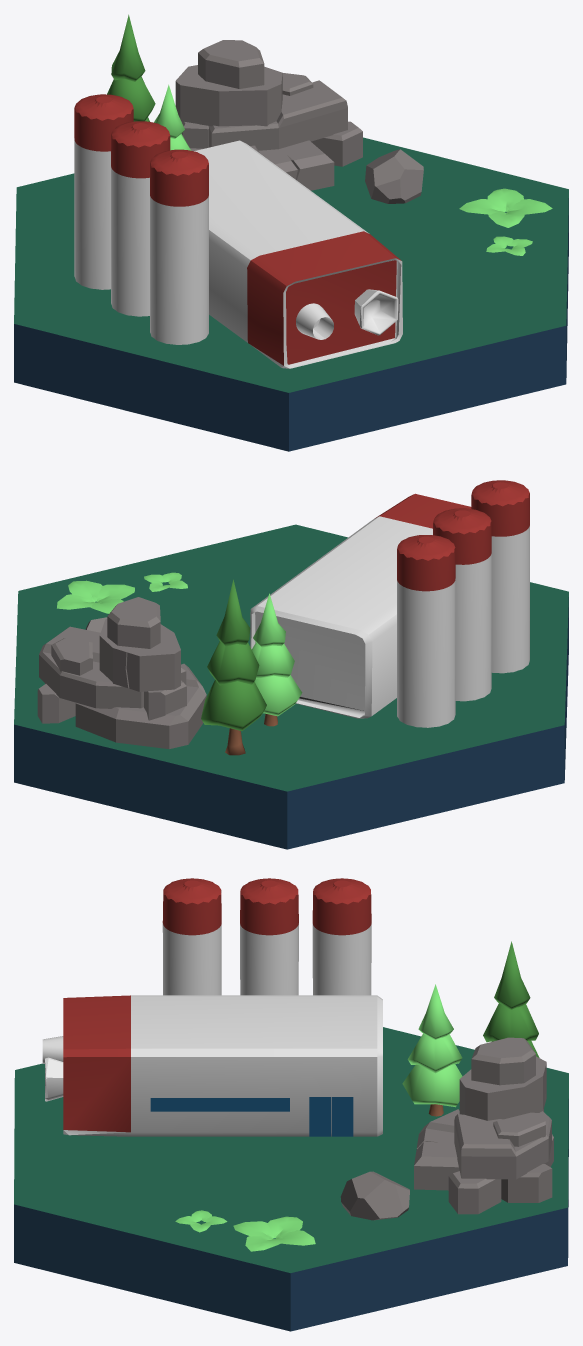
Rendered from Macro - Electric lvl 3.fbx.
3 renders of one model, top to bottom at view 1: azimuth 30°, elevation 25°; view 2: azimuth 150°, elevation 25°; view 3: azimuth 270°, elevation 25°, orthographic.
Parts seen in each view (by area): view 1: Cylinder.154, Cube battery.011, Rock Type1 02 mesh.013, Cylinder battery, Cylinder battery.004, Cylinder battery.005, Rock Type2 04 mesh.005, Tree_Spruce_tiny_01.002, Plane.011, Tree_Spruce_tiny_01.001, Plane.002; view 2: Cylinder.154, Cube battery.011, Rock Type1 02 mesh.013, Cylinder battery.005, Cylinder battery, Cylinder battery.004, Tree_Spruce_tiny_01.002, Tree_Spruce_tiny_01.001, Plane.011, Plane.002; view 3: Cylinder.154, Cube battery.011, Rock Type1 02 mesh.013, Cylinder battery.005, Cylinder battery, Cylinder battery.004, Tree_Spruce_tiny_01.001, Tree_Spruce_tiny_01.002, Rock Type2 04 mesh.005, Plane.003, Plane.011, Plane.001 (+2 smaller).
Boxes of the visible parts, x1,y1,x2,y2 form: Cylinder.154: (14, 137, 568, 451); Cube battery.011: (194, 140, 402, 368); Rock Type1 02 mesh.013: (175, 40, 362, 190); Cylinder battery: (150, 149, 208, 344); Cylinder battery.004: (111, 121, 170, 316); Cylinder battery.005: (74, 94, 133, 289); Rock Type2 04 mesh.005: (365, 149, 423, 203); Tree_Spruce_tiny_01.002: (107, 14, 155, 121); Plane.011: (459, 188, 552, 227); Tree_Spruce_tiny_01.001: (154, 84, 191, 150); Plane.002: (486, 236, 532, 255); Cylinder.154: (14, 524, 568, 849); Cube battery.011: (250, 493, 471, 718); Rock Type1 02 mesh.013: (37, 597, 206, 749); Cylinder battery.005: (397, 535, 455, 727); Cylinder battery: (471, 480, 529, 673); Cylinder battery.004: (433, 508, 491, 701); Tree_Spruce_tiny_01.002: (201, 579, 266, 755); Tree_Spruce_tiny_01.001: (251, 593, 302, 726); Plane.011: (57, 580, 134, 613); Plane.002: (144, 572, 187, 591); Cylinder.154: (14, 1027, 568, 1331); Cube battery.011: (42, 995, 382, 1136); Rock Type1 02 mesh.013: (414, 1037, 553, 1214); Cylinder battery.005: (312, 878, 371, 995); Cylinder battery: (162, 878, 221, 995); Cylinder battery.004: (240, 878, 298, 995); Tree_Spruce_tiny_01.001: (402, 984, 462, 1116); Tree_Spruce_tiny_01.002: (483, 941, 539, 1057); Rock Type2 04 mesh.005: (340, 1171, 409, 1220); Plane.003: (150, 1098, 289, 1111); Plane.011: (233, 1216, 315, 1251); Plane.001: (331, 1097, 353, 1136).
Bounding box in the file's own units: 197 × 80.5 × 172.
